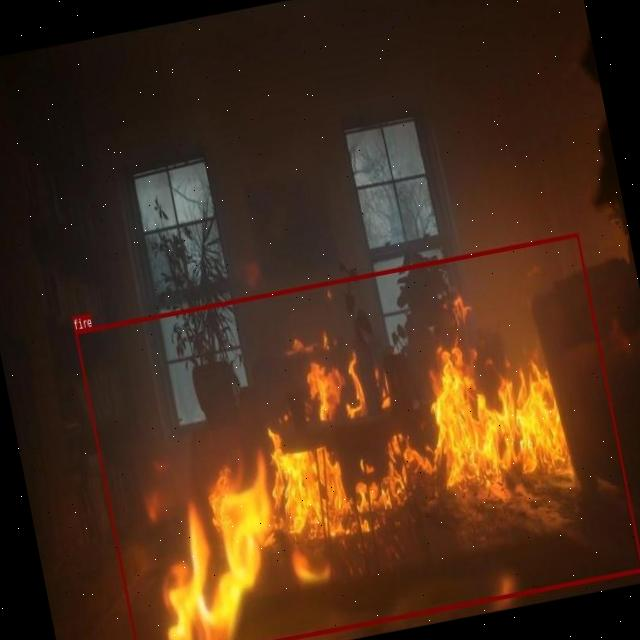fire: (74, 232, 640, 640)
